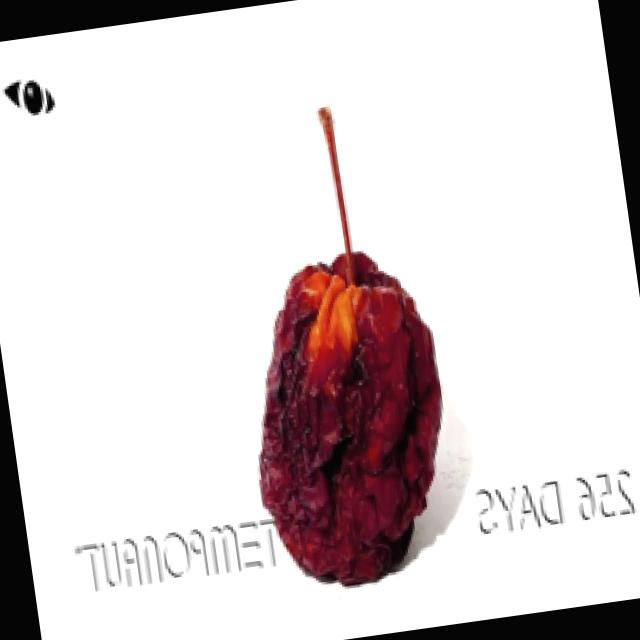Rotten_Apple: (159, 26, 488, 605)
